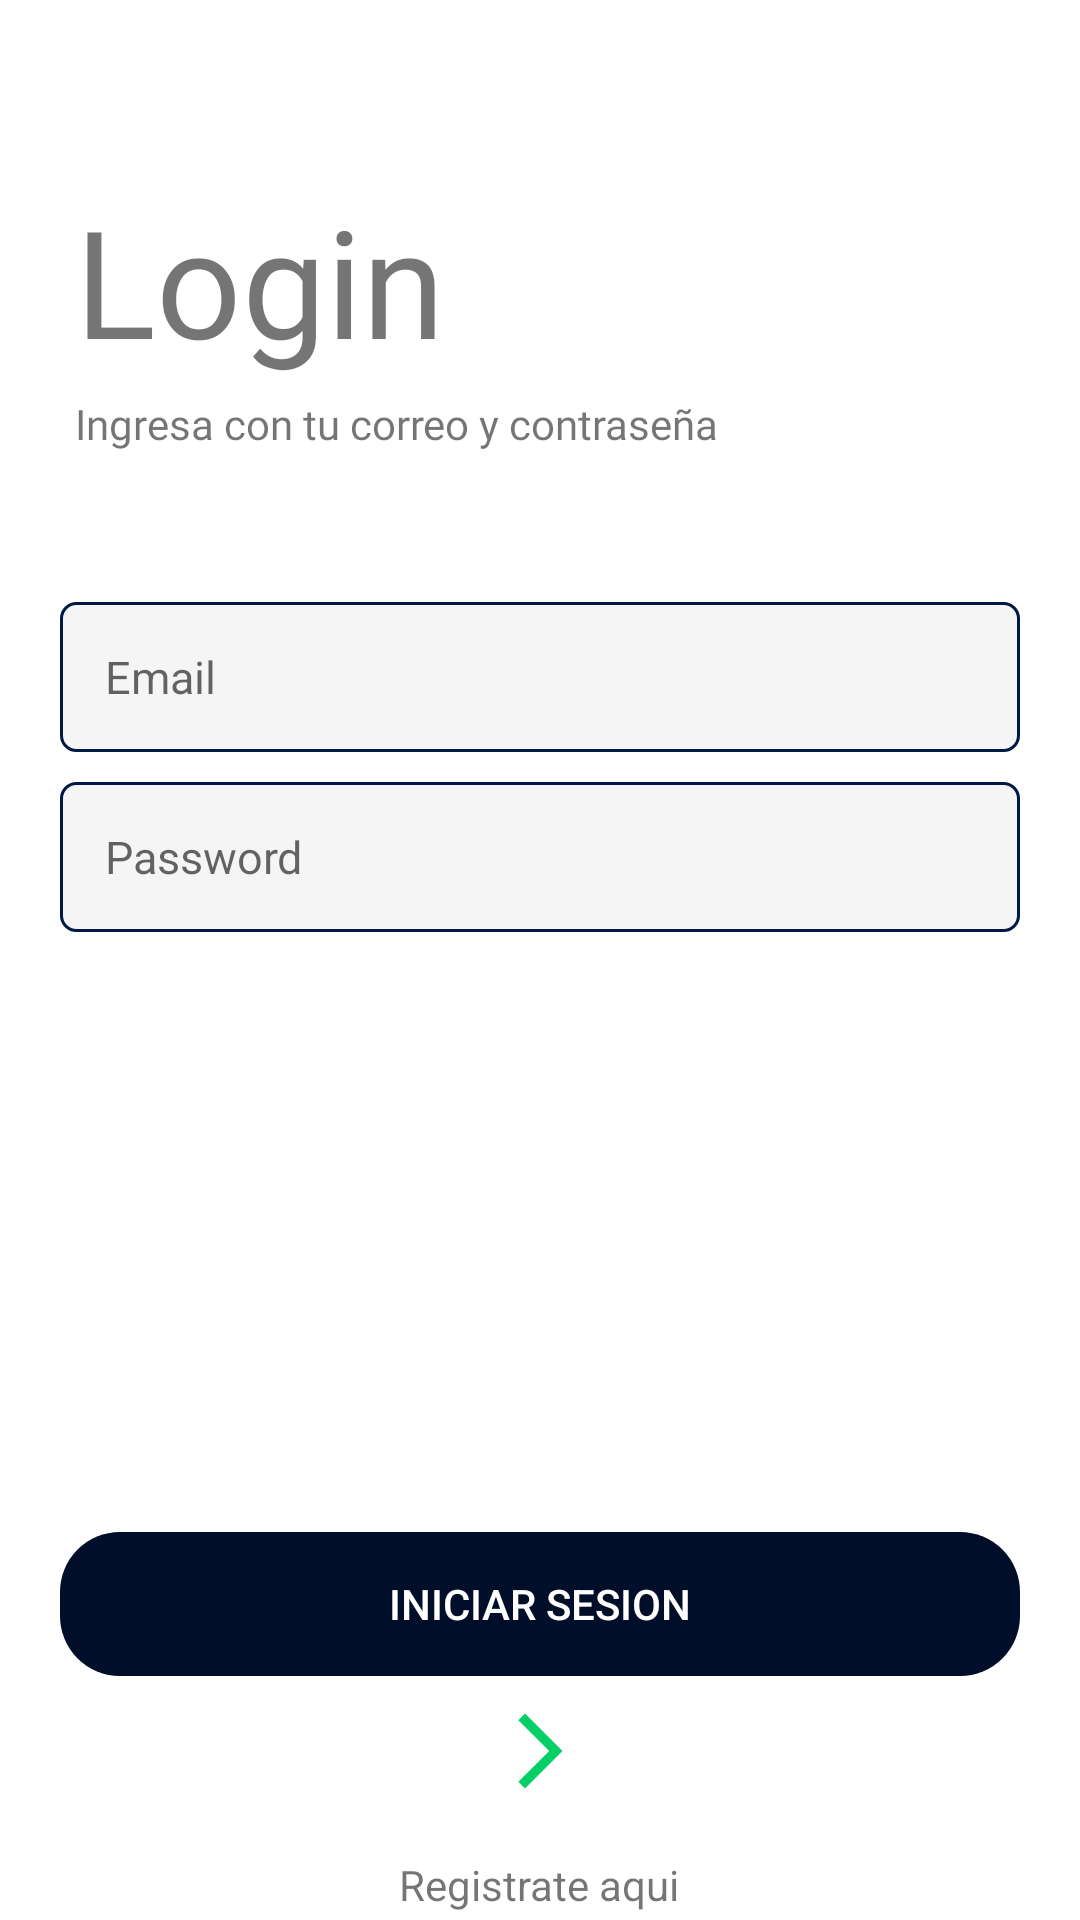

Icons on this 1080px×1920px Android screen, each with its box as (x1, y1, x2, y2):
arrow right: (518, 1713, 563, 1789)
